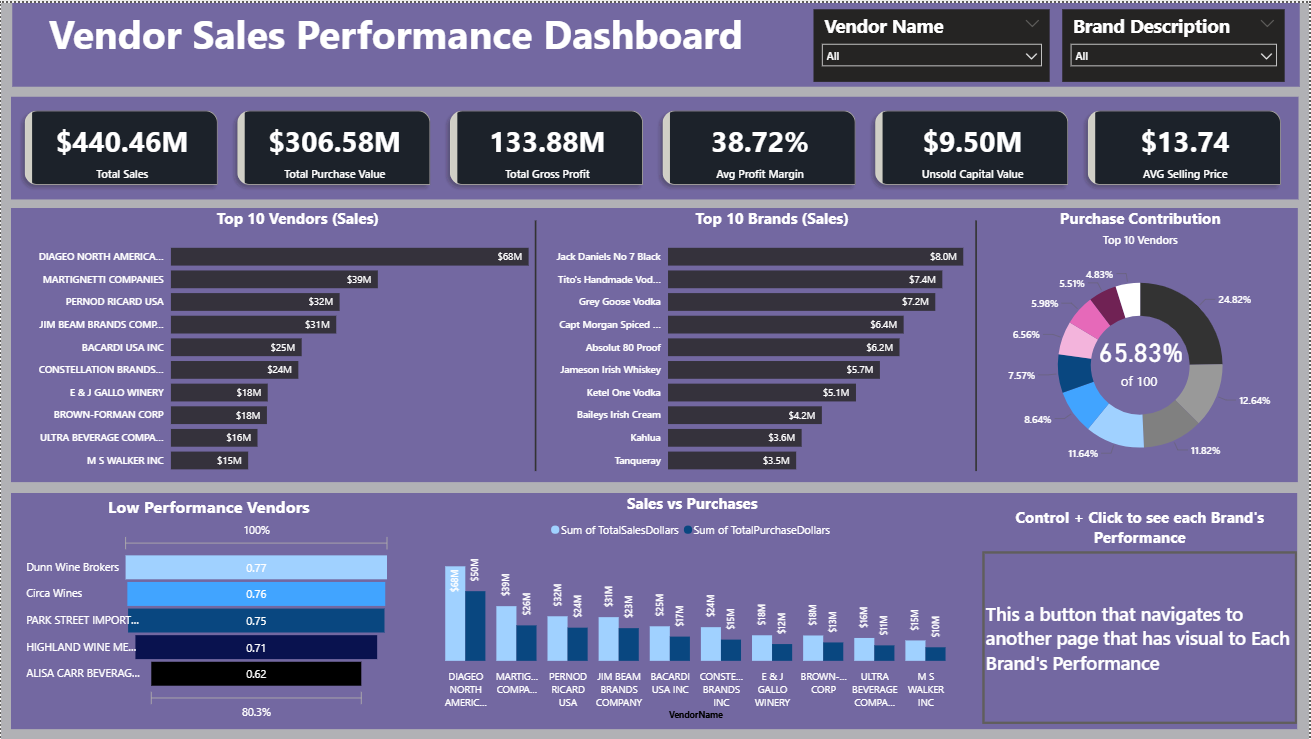

This screenshot's page, from the dashboard's own definition file:
{"tool":"powerbi","page":{"name":"Page 1","canvas":[1600,900],"ordinal":0},"visuals":[{"type":"cardVisual","fields":{"Data":["Sum(AggregatedTable.TotalSalesDollars)","Sum(AggregatedTable.TotalPurchaseDollars)","Sum(AggregatedTable.GrossProfit)","Measures (2).AvgProfitMargin","AggregatedTable.UnSoldCapital","AggregatedTable.AVG Selling Price"]},"box":[12.2,114.6,1574.4,125.3],"z":0},{"type":"textbox","box":[13.8,0,1574.4,102.4],"z":1000},{"type":"slicer","fields":{"Values":["AggregatedTable.VendorName"]},"box":[993.6,7.6,288.9,88.7],"z":2000},{"type":"slicer","fields":{"Values":["AggregatedTable.Description"]},"box":[1297.7,7.6,272.1,88.7],"z":3000},{"type":"shape","box":[12.5,251.3,1573.6,335],"z":4000},{"type":"barChart","title":"Top 10 Vendors (Sales)","fields":{"Category":["AggregatedTable.VendorName"],"Y":["Sum(AggregatedTable.TotalSalesDollars)"]},"box":[26,250.7,674.1,336.3],"z":5000},{"type":"barChart","title":"Top 10 Brands (Sales)","fields":{"Y":["Sum(AggregatedTable.TotalSalesDollars)"],"Category":["AggregatedTable.Description"]},"box":[661.9,250.7,562.5,336.3],"z":6000},{"type":"shape","box":[646.9,265.5,14.3,306.5],"z":7000},{"type":"shape","box":[1186.9,265.5,12.5,306.5],"z":8000},{"type":"donutChart","title":"Purchase Contribution","fields":{"Category":["PurchaseContribution.VendorName"],"Y":["Sum(PurchaseContribution.PurchaseContribution)"]},"box":[1199.9,250.7,386.7,336.3],"z":9000},{"type":"card","fields":{"Values":["Sum(PurchaseContribution.PurchaseContribution)"]},"box":[1294.7,356.1,198.7,159],"z":10000},{"type":"shape","box":[12.2,599.2,1572.9,288.9],"z":11000},{"type":"funnel","title":"Low Performance Vendors","fields":{"Category":["LowTurnoverVendors.VendorName"],"Y":["Sum(LowTurnoverVendors.AvgStockTurnOver)"]},"box":[26.7,602.4,456.2,279.8],"z":12000},{"type":"actionButton","title":"Control + Click to see each Brand''s Performance","box":[1199.9,616,385.2,266],"z":13000},{"type":"clusteredColumnChart","title":"Sales vs Purchases","fields":{"Category":["AggregatedTable.VendorName"],"Y":["Sum(AggregatedTable.TotalSalesDollars)","Sum(AggregatedTable.TotalPurchaseDollars)"]},"box":[504.4,599.2,681.7,282.8],"z":13001}]}

Visuals, with their boxes in screenshot pixels (x1, y1, x2, y2), scaled from the page's 1600x900 canvas onto the 1311x739 screenshot:
cardVisual - Sum(AggregatedTable.TotalSalesDollars) x Sum(AggregatedTable.TotalPurchaseDollars): [10,94,1300,197]
textbox: [11,0,1301,84]
slicer - AggregatedTable.VendorName: [814,6,1051,79]
slicer - AggregatedTable.Description: [1063,6,1286,79]
shape: [10,206,1300,481]
"Top 10 Vendors (Sales)" barChart: [21,206,574,482]
"Top 10 Brands (Sales)" barChart: [542,206,1003,482]
shape: [530,218,542,470]
shape: [973,218,983,470]
"Purchase Contribution" donutChart: [983,206,1300,482]
card - Sum(PurchaseContribution.PurchaseContribution): [1061,292,1224,423]
shape: [10,492,1299,729]
"Low Performance Vendors" funnel: [22,495,396,724]
"Control + Click to see each Brand''s Performance" actionButton: [983,506,1299,724]
"Sales vs Purchases" clusteredColumnChart: [413,492,972,724]
